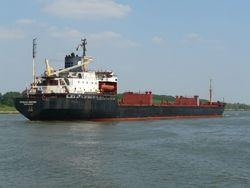Cargoship: (12, 37, 225, 123)
